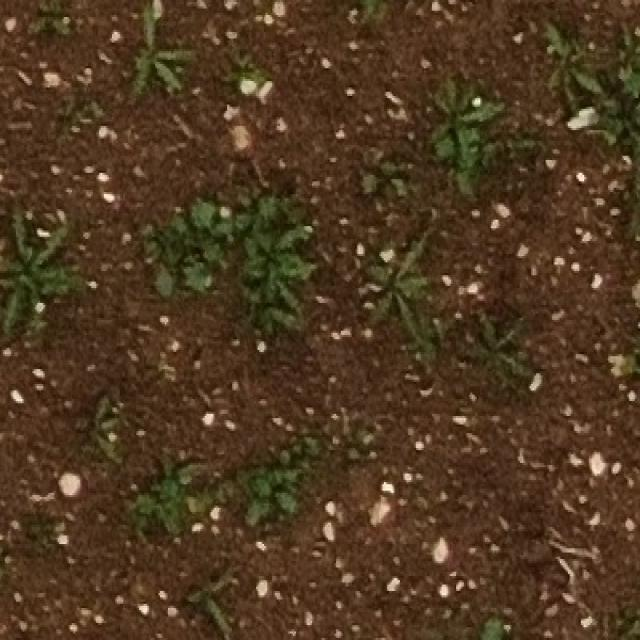cirse: (0, 205, 90, 363), (4, 200, 90, 356), (5, 216, 90, 359), (438, 66, 519, 175), (348, 253, 430, 355), (122, 0, 201, 105), (352, 235, 432, 335), (432, 72, 509, 175), (361, 254, 439, 355), (124, 0, 198, 104), (433, 74, 507, 177), (123, 4, 203, 99), (529, 11, 600, 115), (542, 10, 611, 117), (539, 15, 610, 115), (472, 297, 543, 388), (454, 312, 525, 400), (493, 320, 561, 410), (246, 233, 314, 303), (255, 268, 307, 357), (255, 228, 321, 298), (249, 223, 315, 292), (250, 268, 301, 357), (262, 273, 312, 362), (76, 392, 130, 462), (81, 384, 134, 454), (73, 390, 127, 458)
